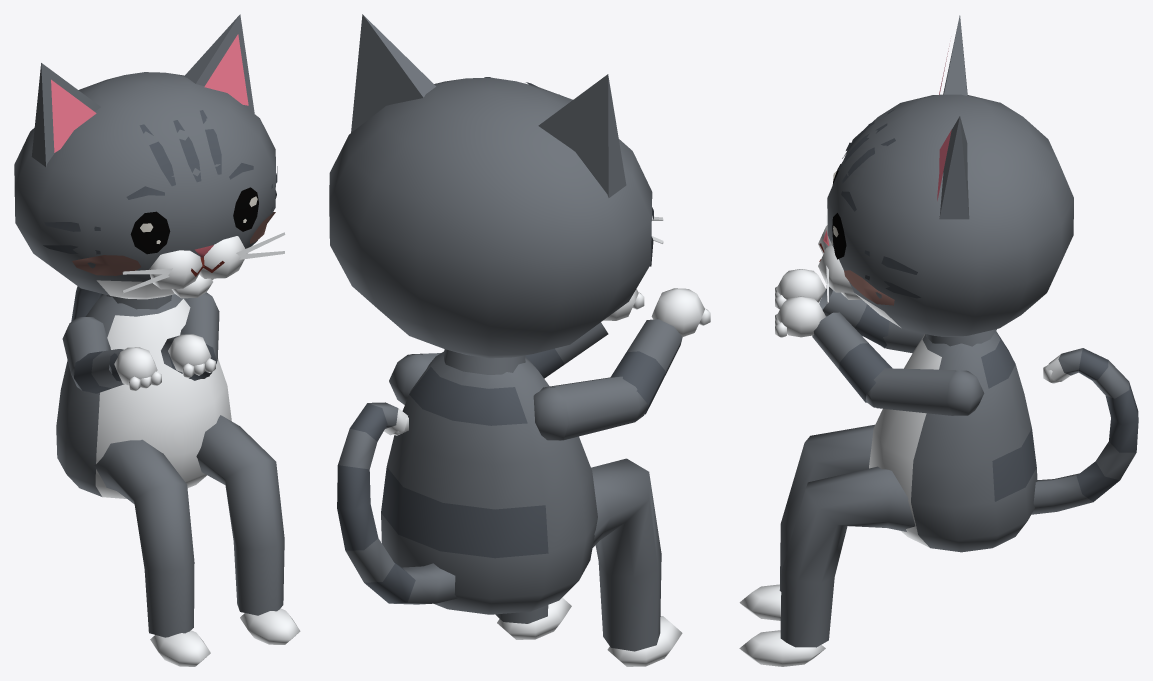
The model's file is rower-grey.glb.
3 renders of one model, left to right at view 1: azimuth 30°, elevation 25°; view 2: azimuth 150°, elevation 25°; view 3: azimuth 270°, elevation 25°, orthographic. The views are drawn at different scales.
Visible parts, largest first — view 1: head, body, fore-right, fore-left, arm-right, arm-left, tail; view 2: head, body, tail, arm-right, fore-right, fore-left, arm-left; view 3: head, body, tail, fore-left, arm-left, fore-right, arm-right.
Boxes of the visible parts, left/top/right/bottom form: head: left=14, top=14, right=285, bottom=299; body: left=56, top=294, right=300, bottom=666; fore-right: left=74, top=347, right=161, bottom=393; fore-left: left=161, top=334, right=216, bottom=380; arm-right: left=62, top=317, right=112, bottom=392; arm-left: left=180, top=292, right=219, bottom=378; tail: left=71, top=286, right=102, bottom=321; head: left=329, top=14, right=663, bottom=358; body: left=381, top=349, right=682, bottom=666; tail: left=337, top=402, right=457, bottom=604; arm-right: left=533, top=376, right=647, bottom=440; fore-right: left=610, top=288, right=710, bottom=414; fore-left: left=525, top=289, right=644, bottom=378; arm-left: left=389, top=353, right=440, bottom=404; head: left=818, top=15, right=1073, bottom=336; body: left=739, top=329, right=1037, bottom=666; tail: left=1031, top=348, right=1138, bottom=514; fore-left: left=775, top=296, right=891, bottom=402; arm-left: left=866, top=368, right=984, bottom=415; fore-right: left=775, top=269, right=889, bottom=347; arm-right: left=881, top=321, right=924, bottom=353.
Bounding box in the file's own units: 0.5242 × 1.17 × 0.7368.
